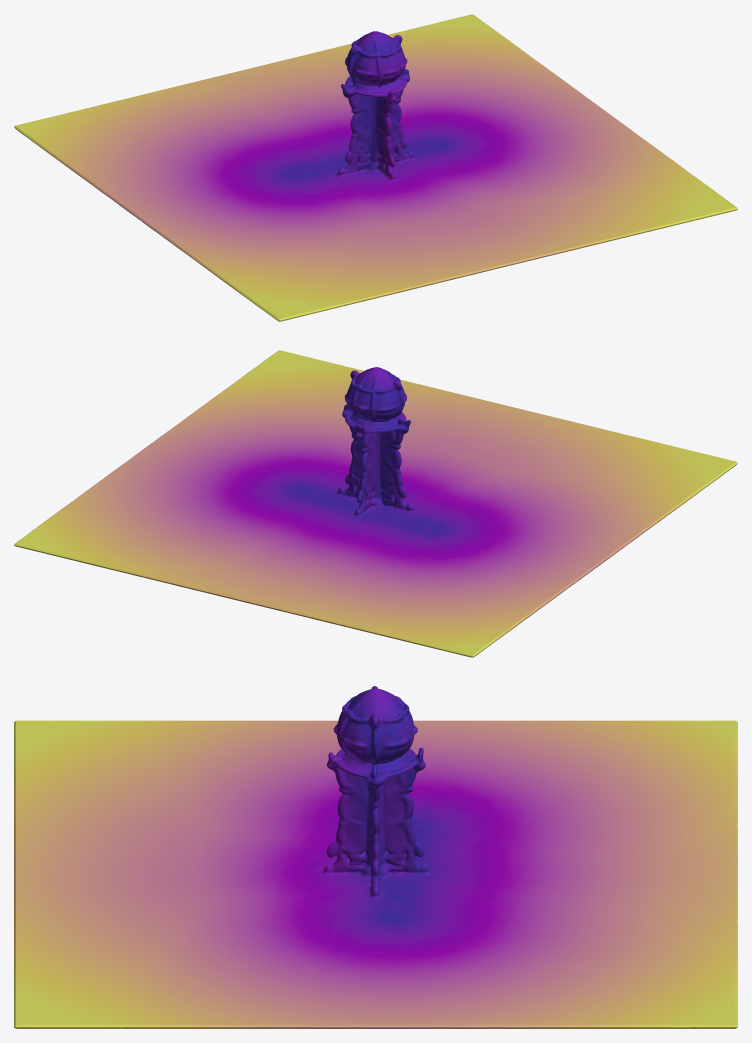
File: iter_6.glb
3 views of the same model, one above another, from view 1: azimuth 30°, elevation 25°; view 2: azimuth 150°, elevation 25°; view 3: azimuth 270°, elevation 25° (orthographic). The views are drawn at different scales.
Visible parts, largest first — view 1: textured_mesh; view 2: textured_mesh; view 3: textured_mesh.
Part boxes in pixels (<box>): textured_mesh: <box>14,14,737,321</box>; textured_mesh: <box>14,350,737,657</box>; textured_mesh: <box>14,686,737,1028</box>.
Bounding box in the file's own units: 1.99 × 0.5728 × 1.99.
